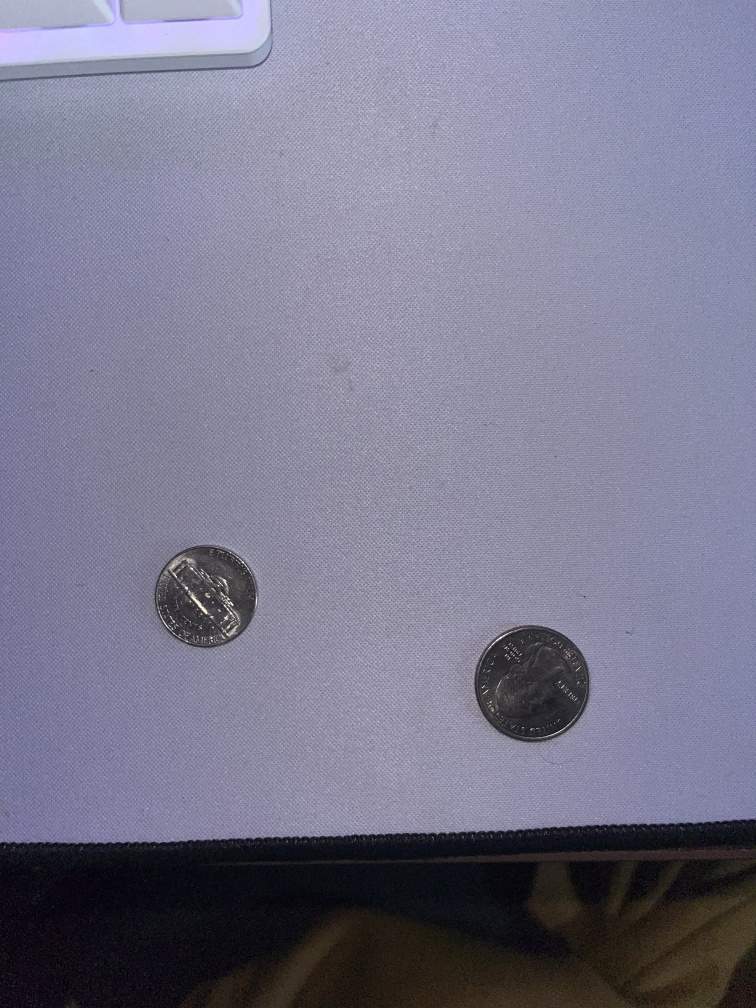nickel: (150, 544, 263, 652)
quarter: (474, 621, 592, 743)
